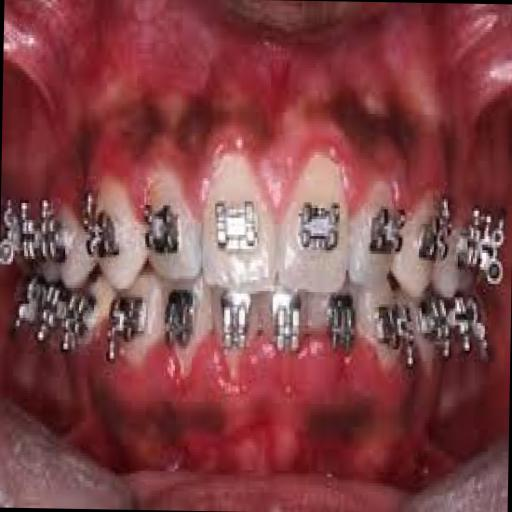correct_brace: (138, 166, 202, 286), (350, 173, 408, 293), (207, 195, 266, 259), (139, 199, 192, 262), (295, 194, 342, 258), (366, 206, 408, 265)
